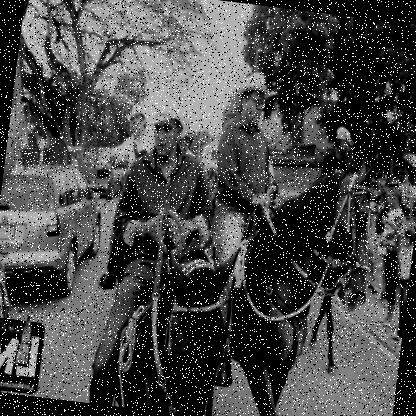Car: (0, 157, 110, 302), (82, 167, 122, 201), (383, 181, 415, 223), (391, 173, 415, 213), (112, 156, 128, 179)
